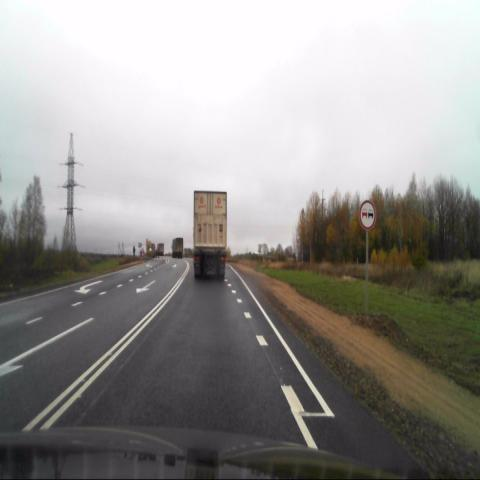3_20: (359, 200, 376, 231)
